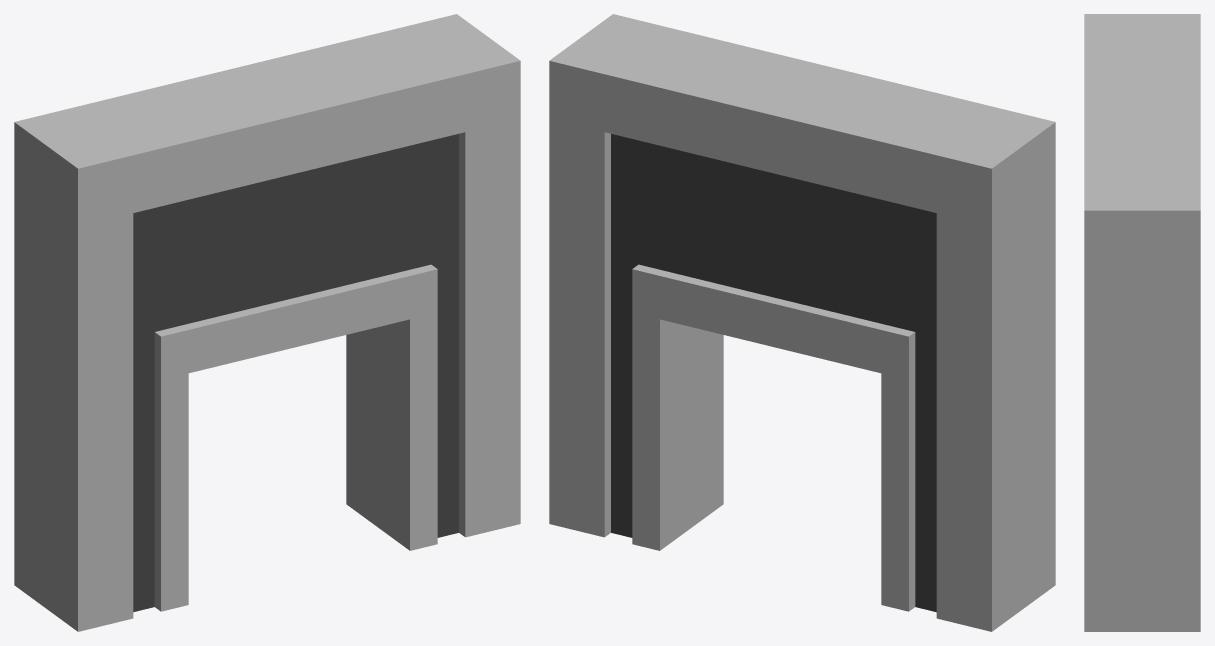
The model's file is LightStoneWallMediumFramedDoor1.fbx.
The picture shows the model from 3 angles, left to right: view 1: azimuth 30°, elevation 25°; view 2: azimuth 150°, elevation 25°; view 3: azimuth 270°, elevation 25°; orthographic projection. The views are drawn at different scales.
Parts seen in each view (by area): view 1: LightStoneWallMediumFramedDoor1; view 2: LightStoneWallMediumFramedDoor1; view 3: LightStoneWallMediumFramedDoor1.
Boxes of the visible parts, left/top/right/bottom form: LightStoneWallMediumFramedDoor1: left=14, top=14, right=520, bottom=631; LightStoneWallMediumFramedDoor1: left=549, top=14, right=1055, bottom=631; LightStoneWallMediumFramedDoor1: left=1084, top=14, right=1200, bottom=631.
Bounding box in the file's own units: 400 × 400 × 100.
Materials: 2 (2 with a texture image).
